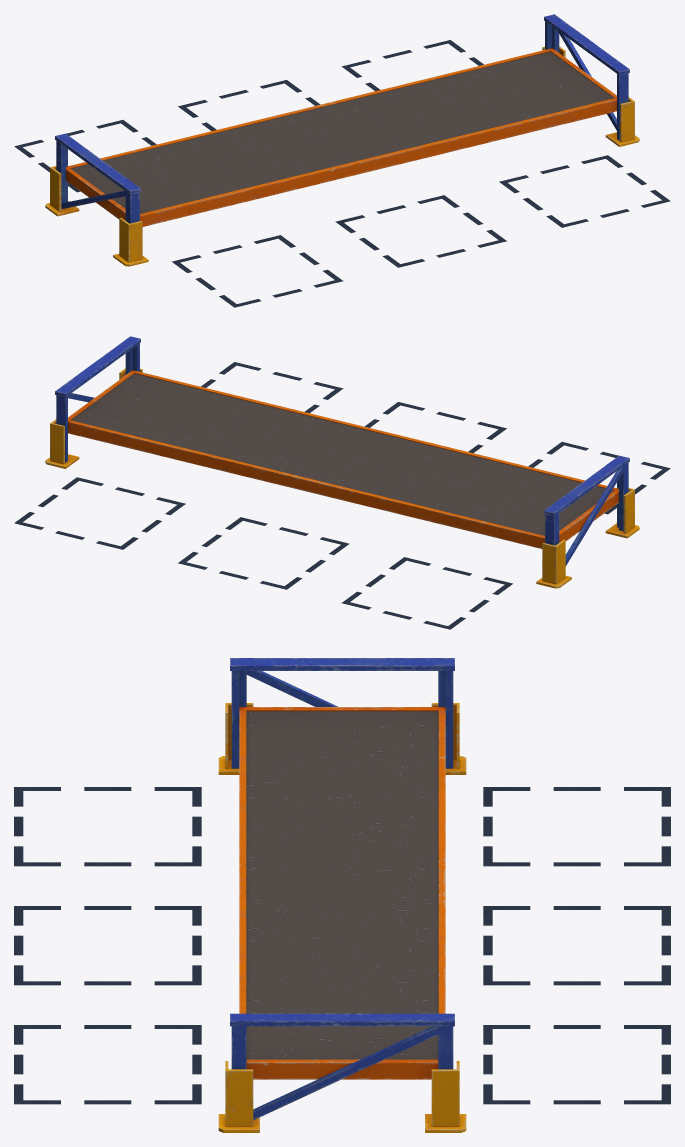
The model's file is shelving.fbx.
The picture shows the model from 3 angles, top to bottom: view 1: azimuth 30°, elevation 25°; view 2: azimuth 150°, elevation 25°; view 3: azimuth 270°, elevation 25°; orthographic projection. The views are drawn at different scales.
Parts seen in each view (by area): view 1: shelving, part_right, zones_1, part_left, zones_2; view 2: shelving, part_right, zones_2, part_left, zones_1; view 3: shelving, part_left, part_right, zones_1, zones_2.
Part boxes in pixels (x1=…): shelving: x1=66, y1=48, x2=616, y2=226; part_right: x1=45, y1=133, x2=148, y2=266; zones_1: x1=172, y1=155, x2=670, y2=307; part_left: x1=542, y1=14, x2=639, y2=146; zones_2: x1=14, y1=40, x2=483, y2=192; shelving: x1=68, y1=370, x2=618, y2=548; part_right: x1=536, y1=455, x2=639, y2=588; zones_2: x1=14, y1=477, x2=512, y2=629; part_left: x1=45, y1=336, x2=142, y2=468; zones_1: x1=201, y1=362, x2=670, y2=514; shelving: x1=239, y1=707, x2=445, y2=1079; part_left: x1=218, y1=1013, x2=466, y2=1132; part_right: x1=218, y1=658, x2=466, y2=774; zones_1: x1=14, y1=787, x2=201, y2=1104; zones_2: x1=483, y1=787, x2=670, y2=1104.
Size of the model in its own units: 236 by 31.21 by 175.
1 material, 1 textured.
